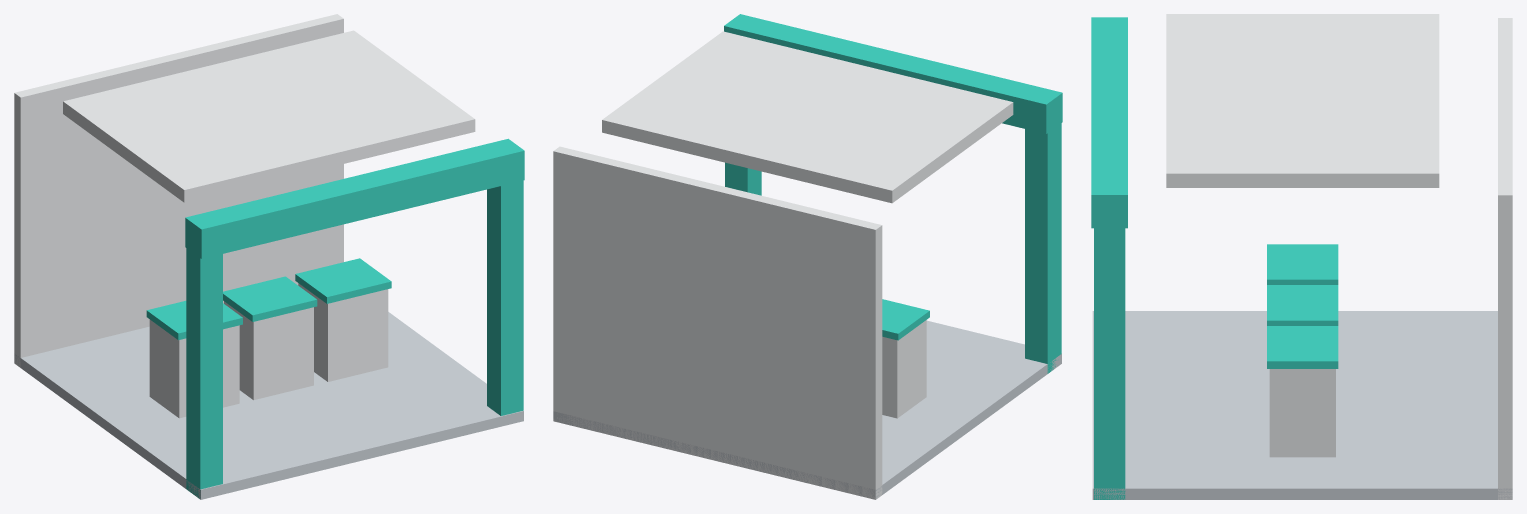
3 views of the same model, side by side, from view 1: azimuth 30°, elevation 25°; view 2: azimuth 150°, elevation 25°; view 3: azimuth 270°, elevation 25° (orthographic). The views are drawn at different scales.
Parts seen in each view (by area): view 1: Exhibition Booth Concept; view 2: Exhibition Booth Concept; view 3: Exhibition Booth Concept.
Part boxes in pixels (<box>): Exhibition Booth Concept: <box>14,14,524,499</box>; Exhibition Booth Concept: <box>553,14,1062,499</box>; Exhibition Booth Concept: <box>1091,14,1512,499</box>.
Bounding box in the file's own units: 4 × 3.34 × 4.02.
